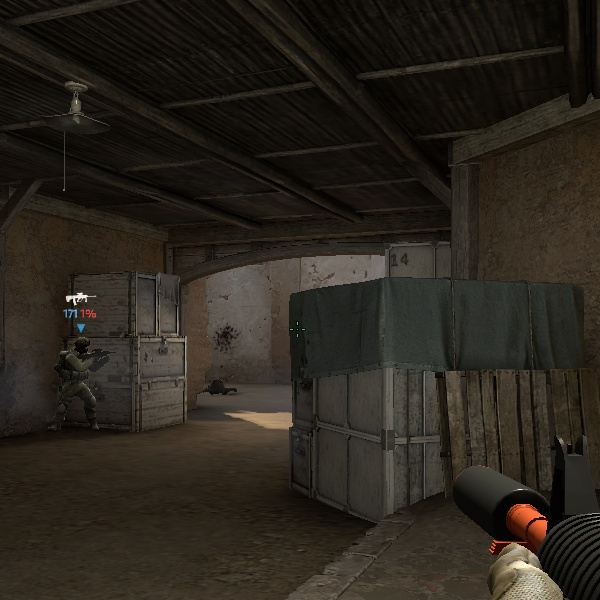ct_body: (57, 337, 105, 433)
ct_head: (74, 337, 90, 355)
